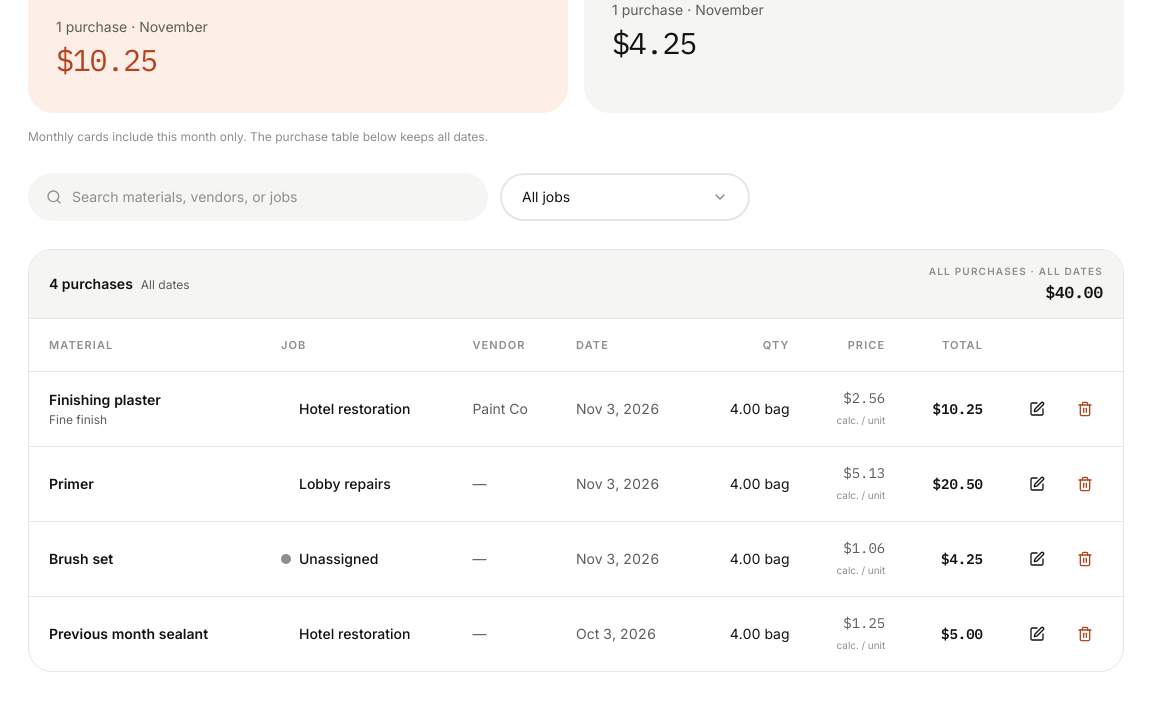
Test: Materials redesign › preserves the record on save error, then moves the purchase between jobs without changing its cost
(page scrolled)
Expected: the row with test id "row-material-material-a" is shown, left=29, top=371, right=1123, bottom=446
Click the button with test id "button-edit-material-material-a": (1037, 409) left=1015, top=387, right=1059, bottom=431
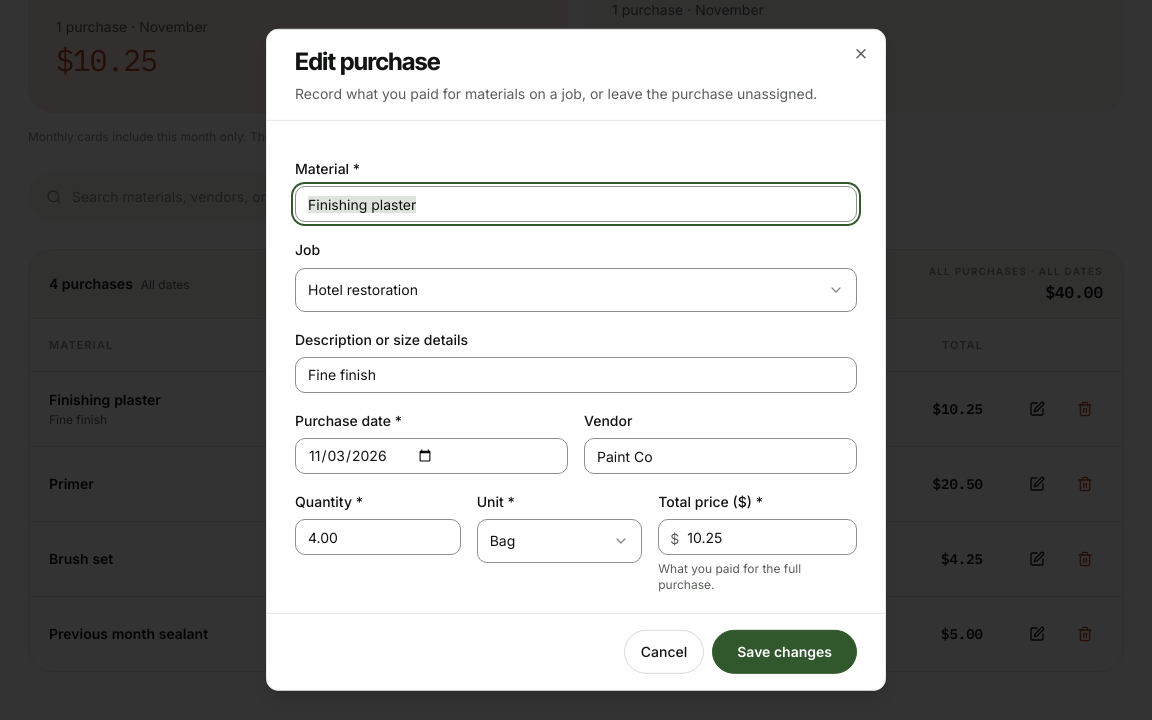
Result: the number field with test id "input-material-price" holds "10.25" at left=658, top=519, right=857, bottom=555
Click the dropdown with test id "select-material-job": (363, 289) left=295, top=267, right=857, bottom=311
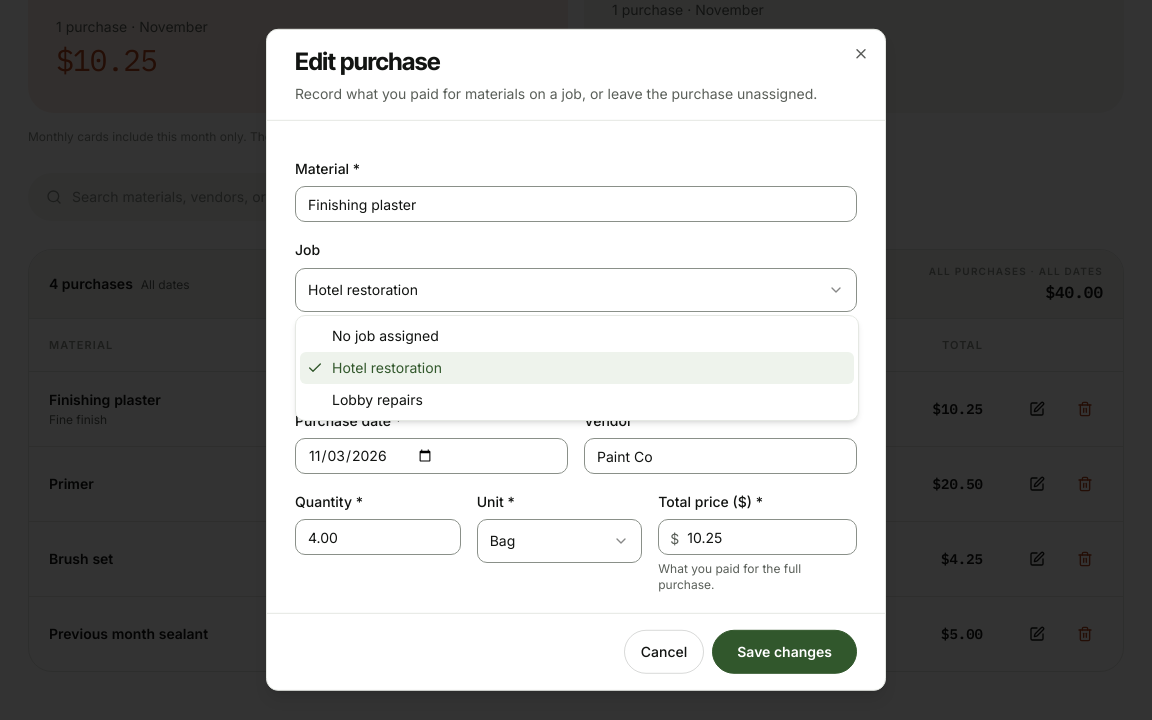
Click the option "Lobby repairs": (377, 400) left=332, top=391, right=423, bottom=408
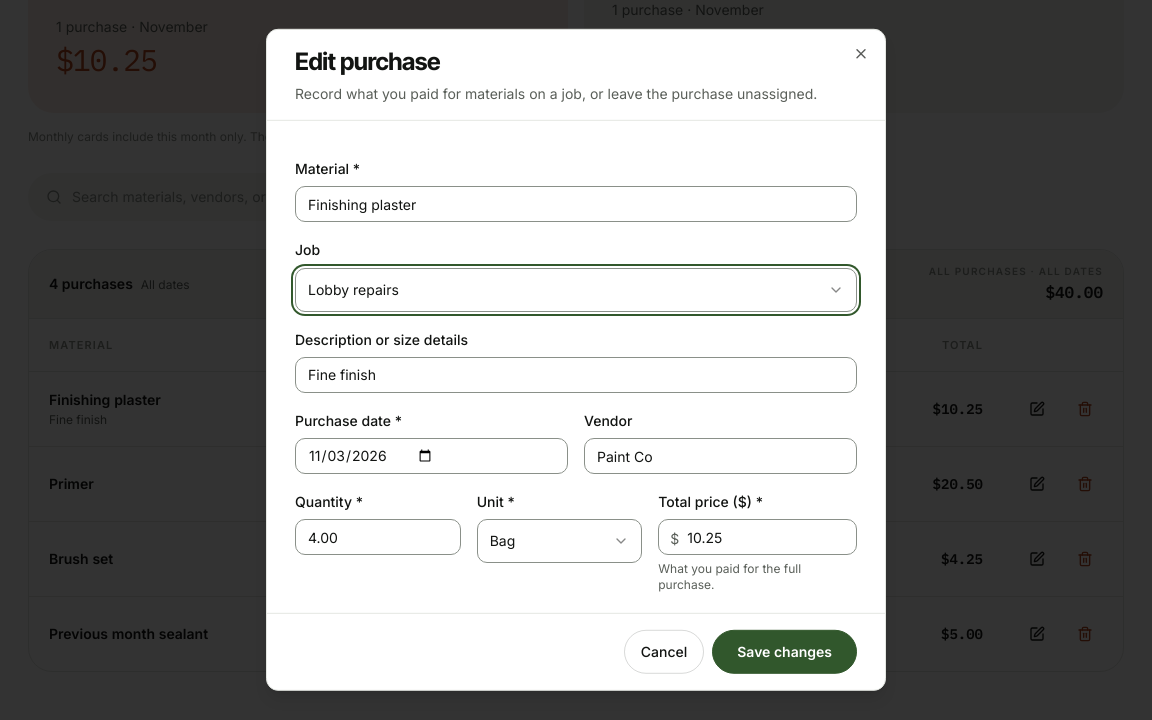
Replace the text in the field with test id "input-material-name" with "Updated plaster": (576, 204) left=295, top=186, right=857, bottom=222
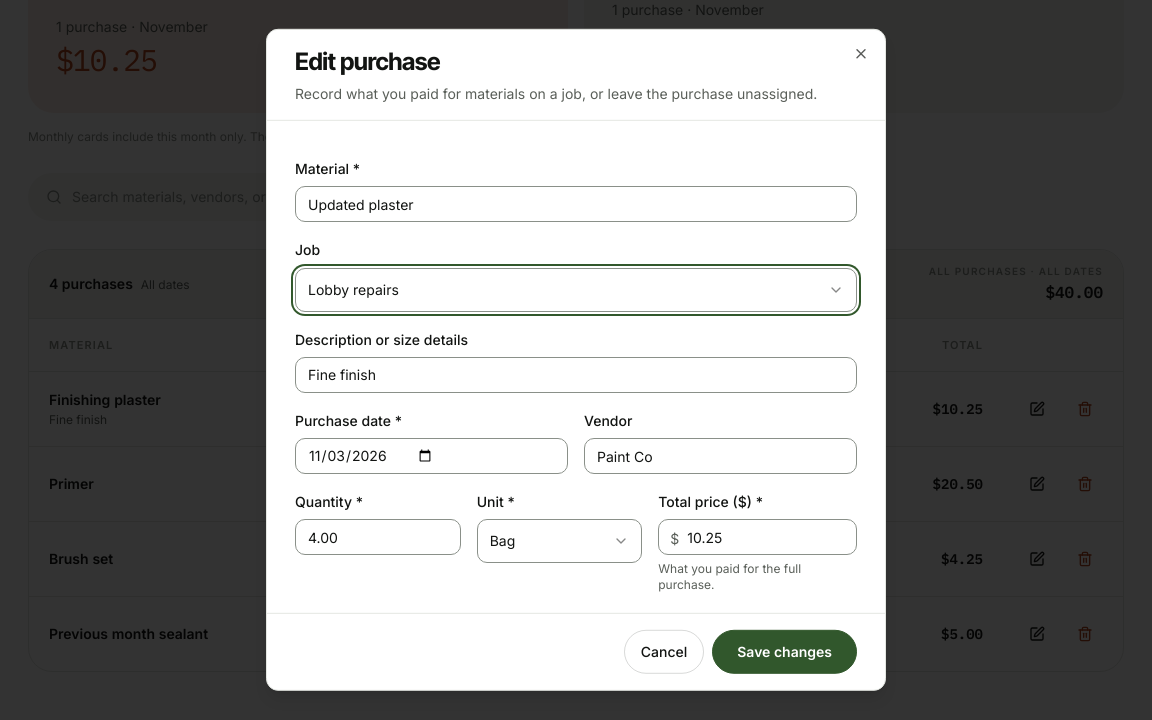
Click the button with test id "button-save-material": (785, 652) left=712, top=630, right=857, bottom=674
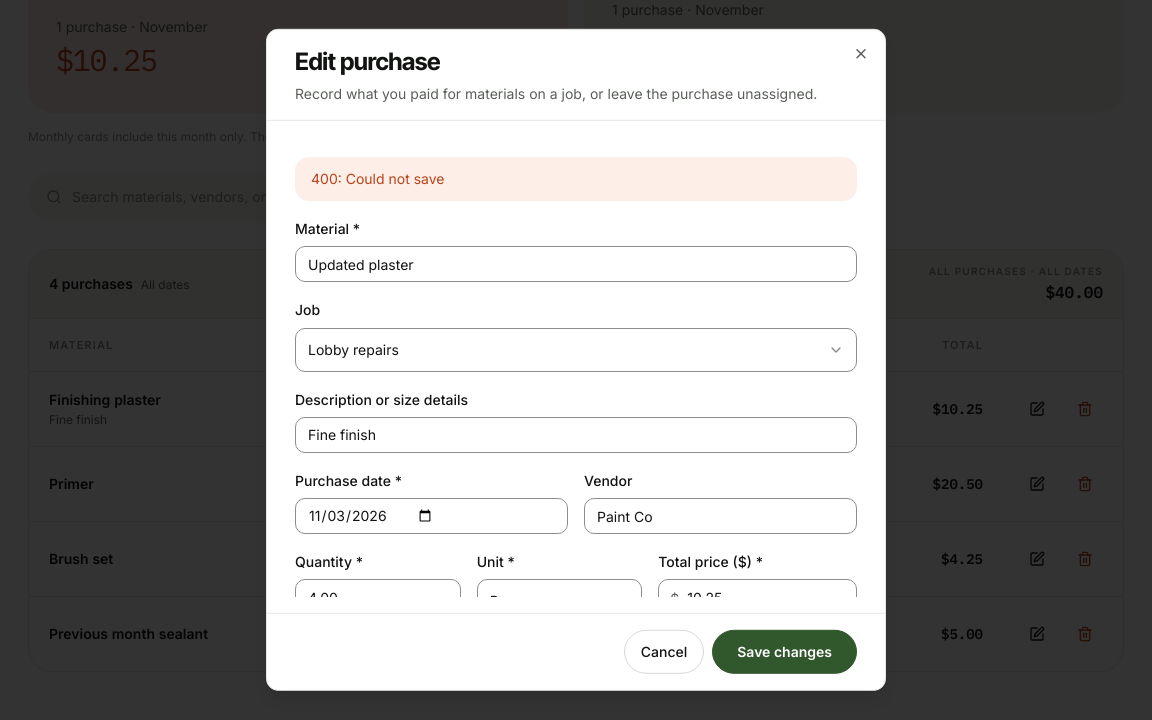
Result: the dialog is shown at left=266, top=29, right=886, bottom=691
Click the button with test id "button-save-material": (785, 652) left=712, top=630, right=857, bottom=674
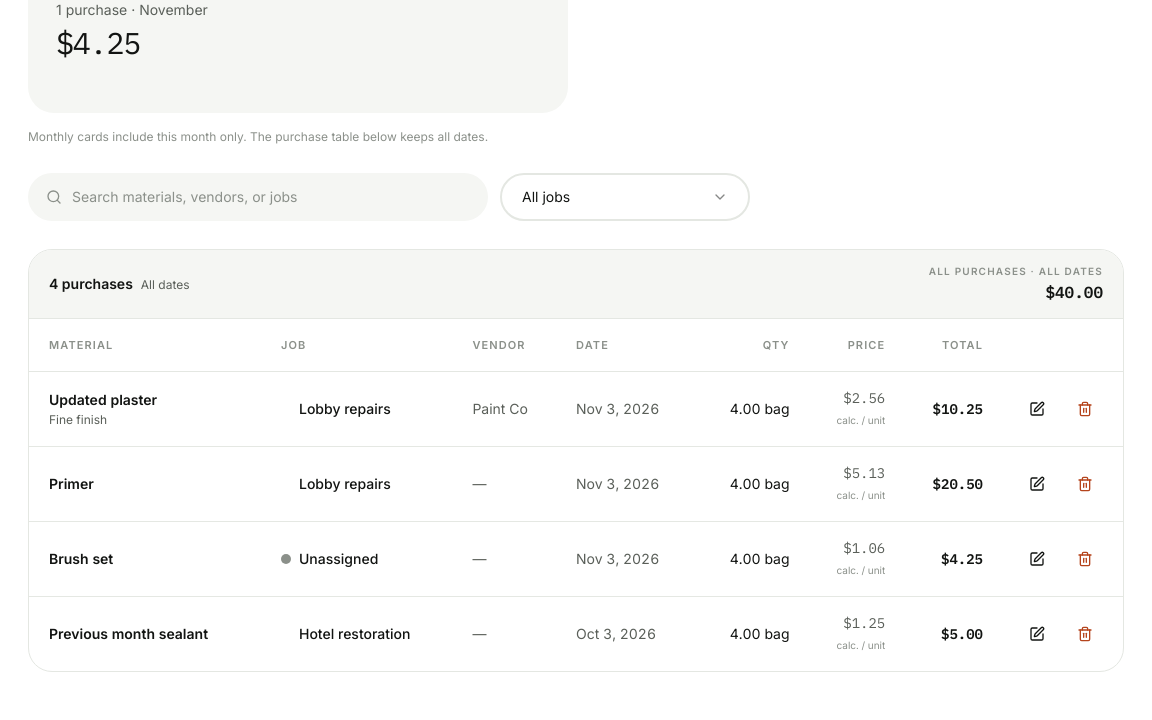
Expected: the text with test id "text-material-total" reads "$40.00", left=1045, top=282, right=1103, bottom=302
Result: the dialog is gone
Result: the row with test id "row-material-material-a" shows "Lobby repairs" at left=299, top=400, right=391, bottom=417
